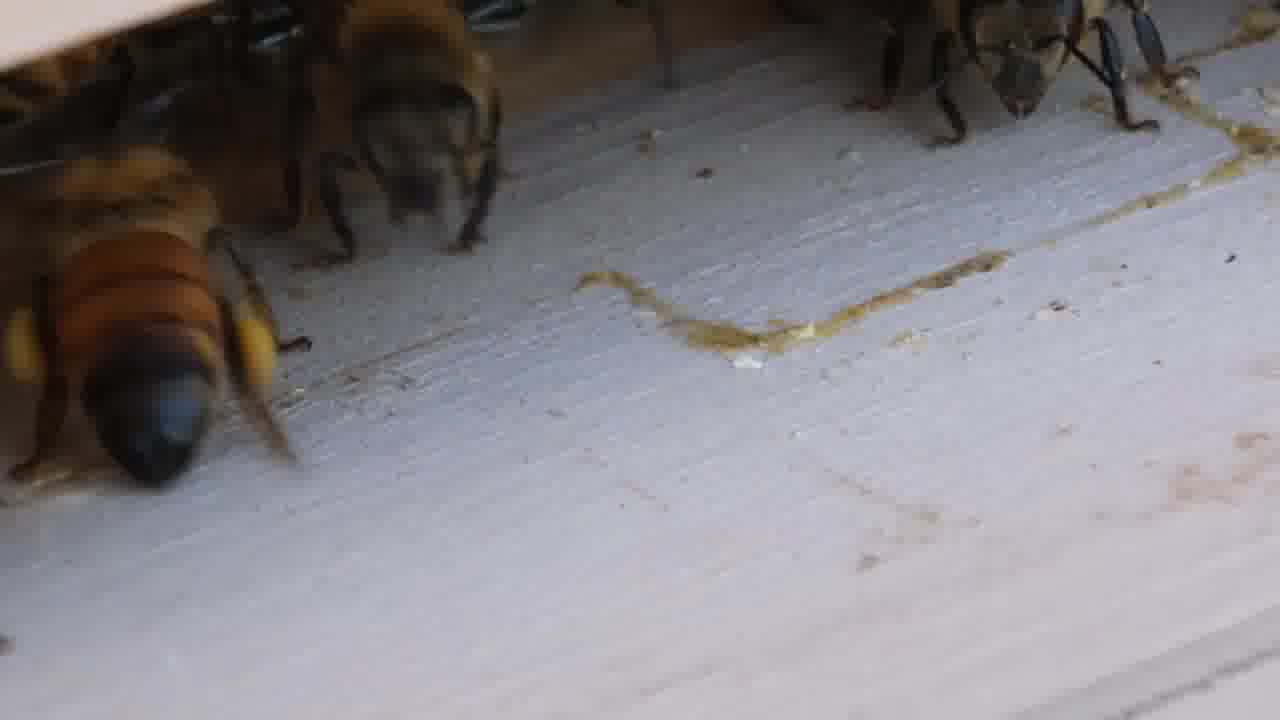pollen: (5, 155, 305, 480)
